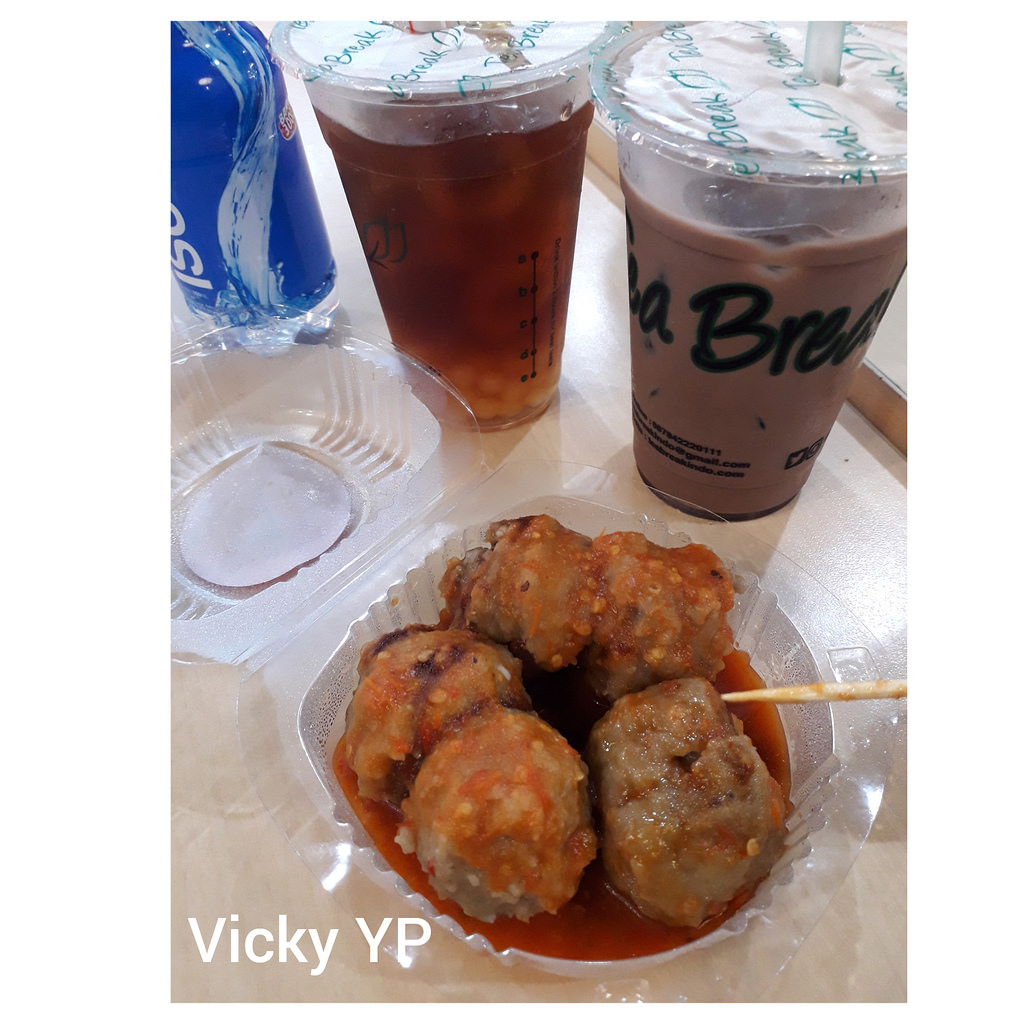meatballs: (409, 573, 770, 858)
